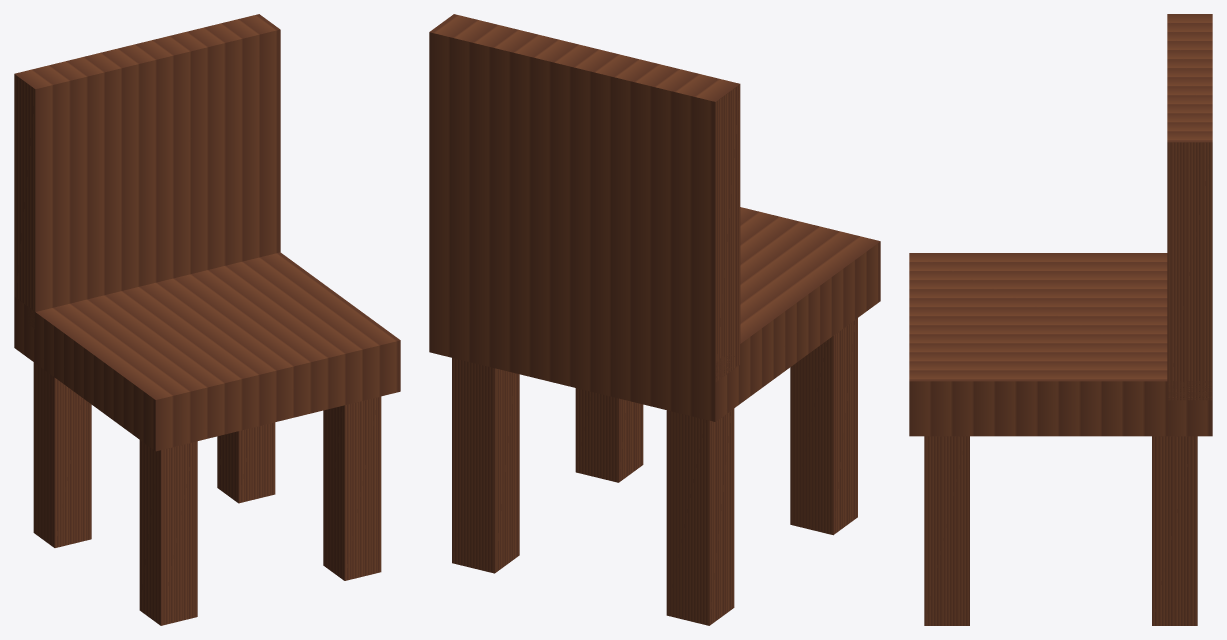
The model's file is chair.obj.
The picture shows the model from 3 angles, left to right: view 1: azimuth 30°, elevation 25°; view 2: azimuth 150°, elevation 25°; view 3: azimuth 270°, elevation 25°; orthographic projection. The views are drawn at different scales.
Bounding box in the file's own units: 0.8 × 1.42 × 0.8.
1 material, 1 textured.
